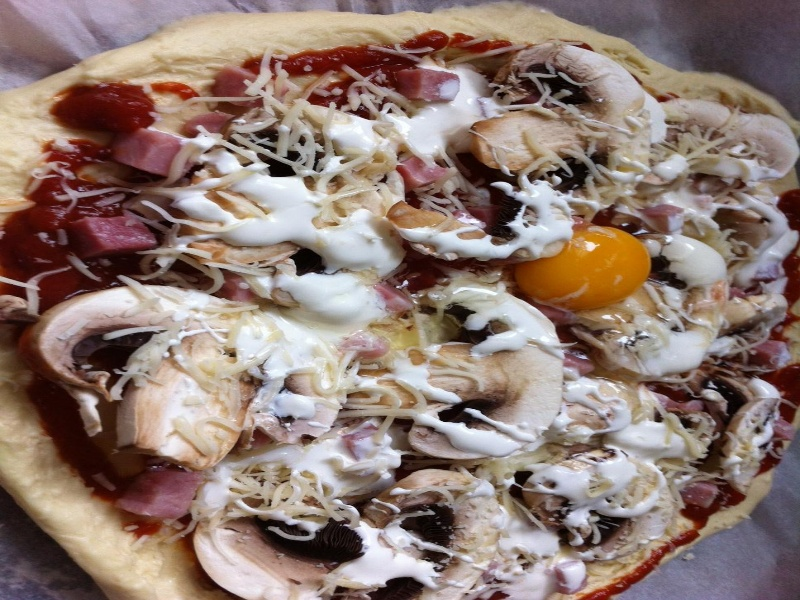champignon: (24, 280, 351, 477), (477, 38, 669, 197), (414, 275, 569, 465)
